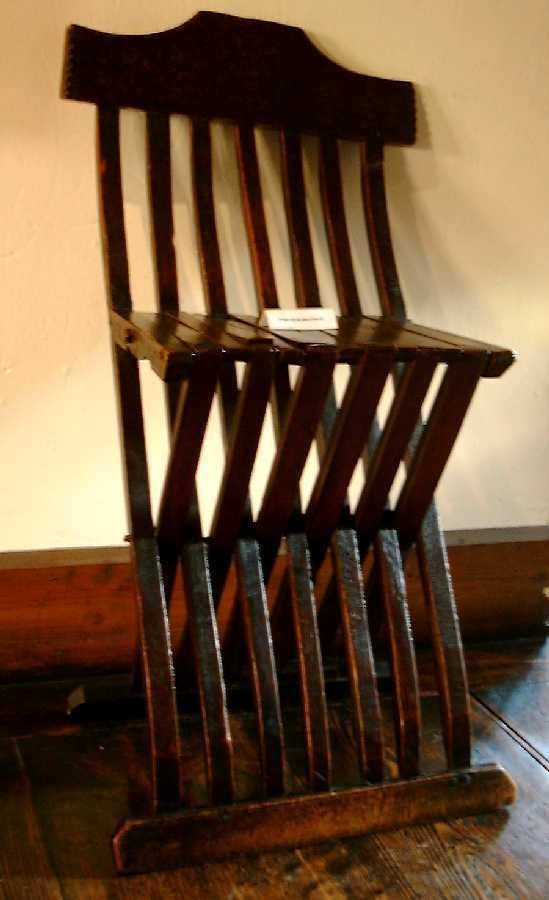obstacle: (63, 12, 514, 872)
